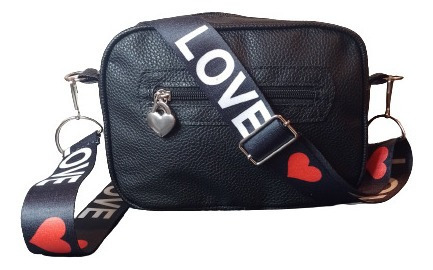cartera: (20, 12, 414, 258)
